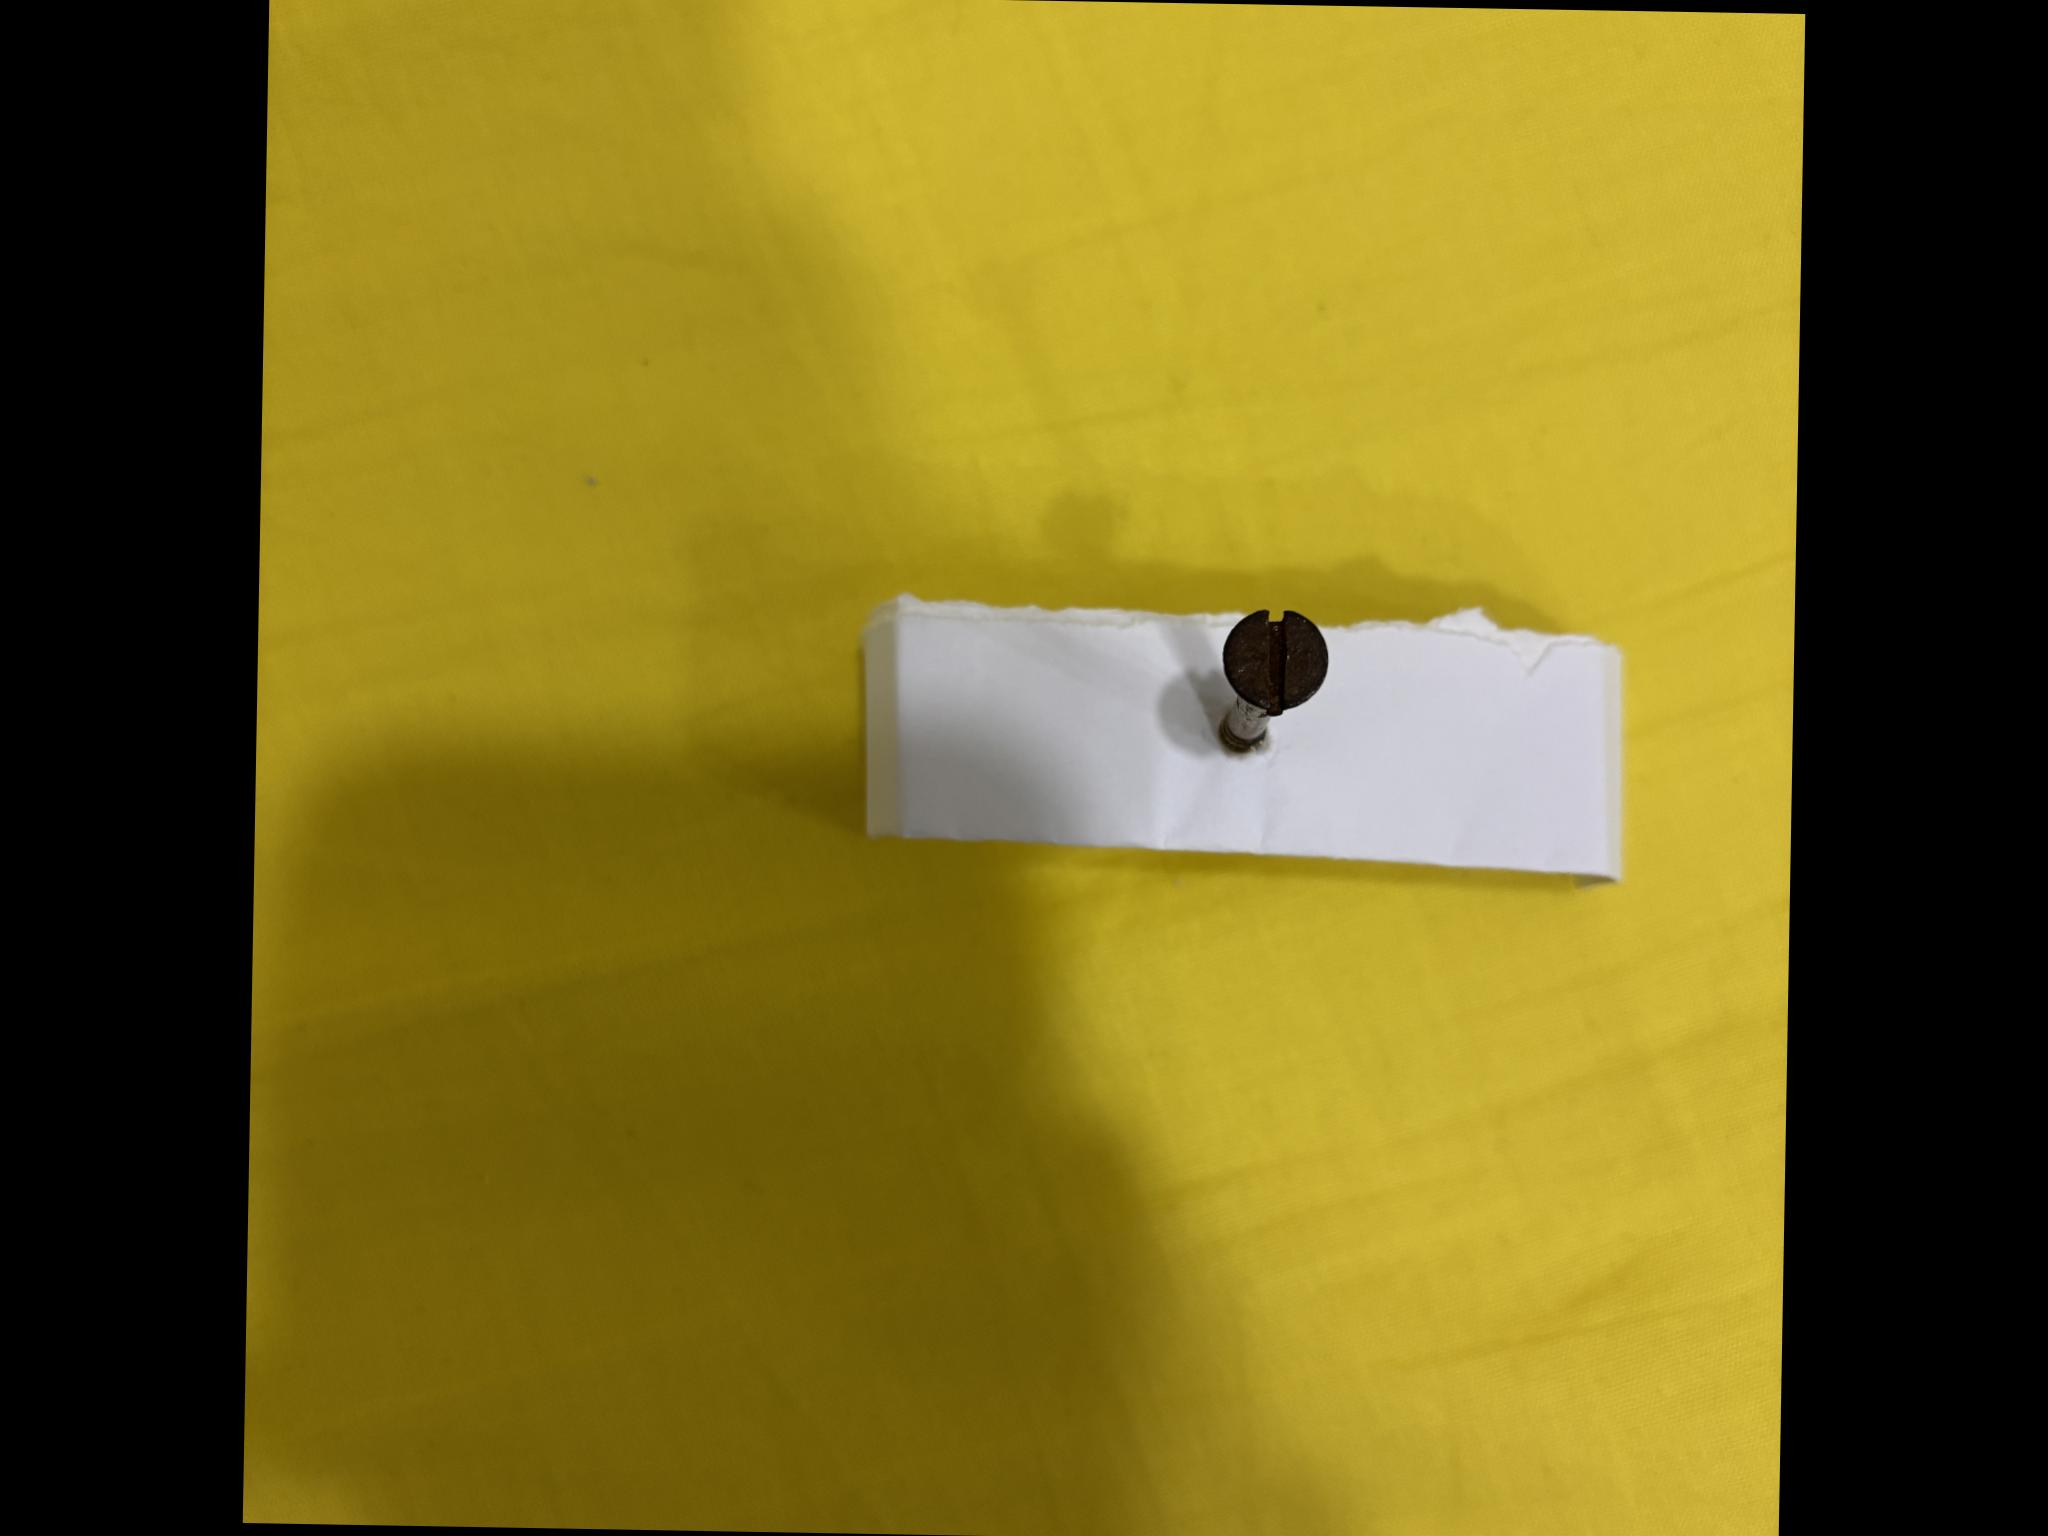SL: (792, 707, 934, 812)
